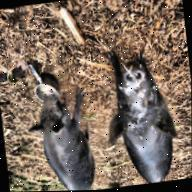boar: (98, 44, 181, 188), (23, 87, 98, 191)
